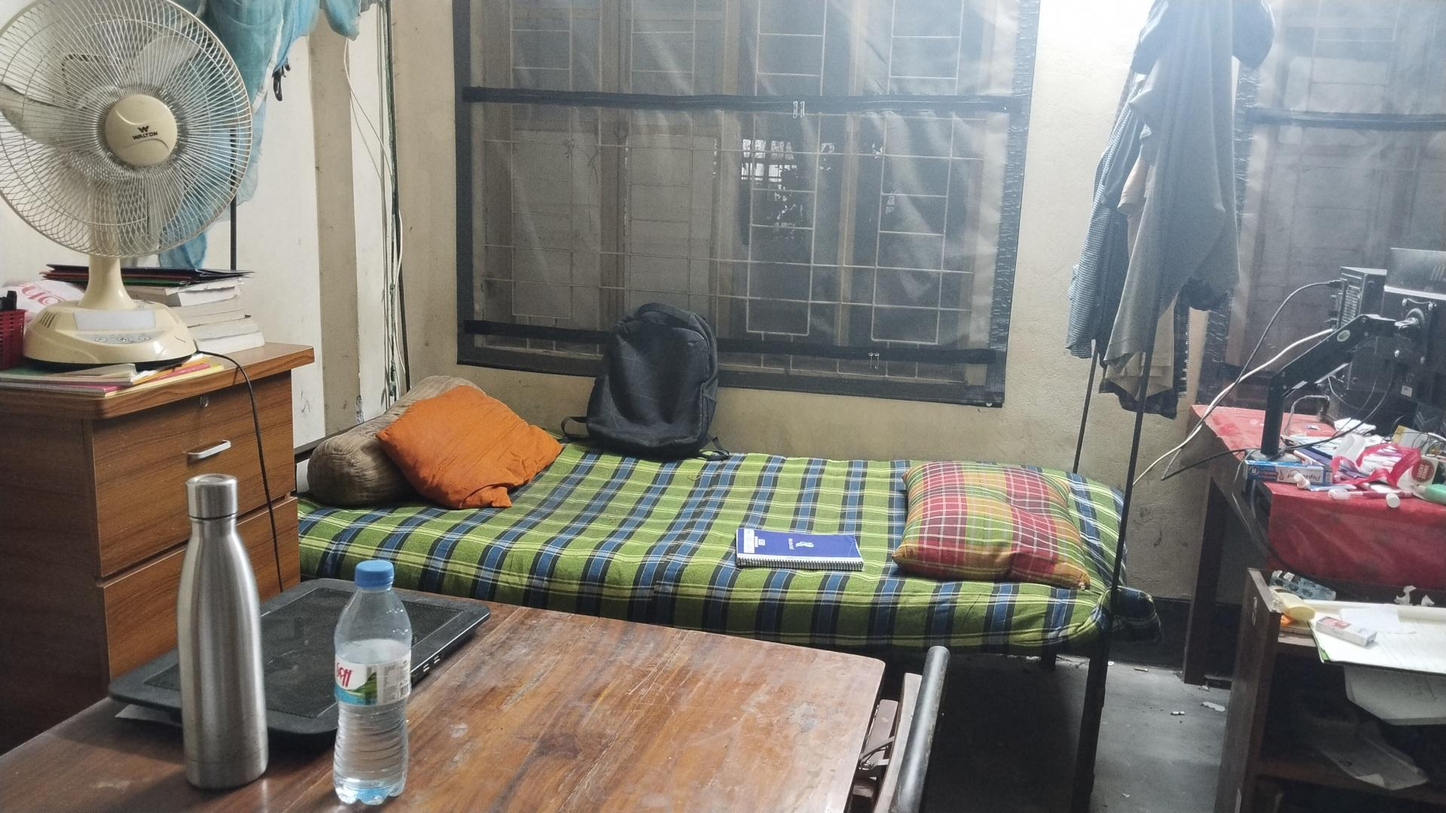Bag: (591, 300, 717, 457)
Bottle: (175, 473, 275, 786), (336, 557, 409, 804)
Fan: (0, 0, 257, 361)
Notebook: (734, 527, 864, 572)
Pillow: (901, 464, 1091, 588), (383, 381, 563, 503)
Window: (470, 0, 602, 348), (856, 19, 972, 378), (735, 21, 837, 367), (613, 22, 714, 355)
